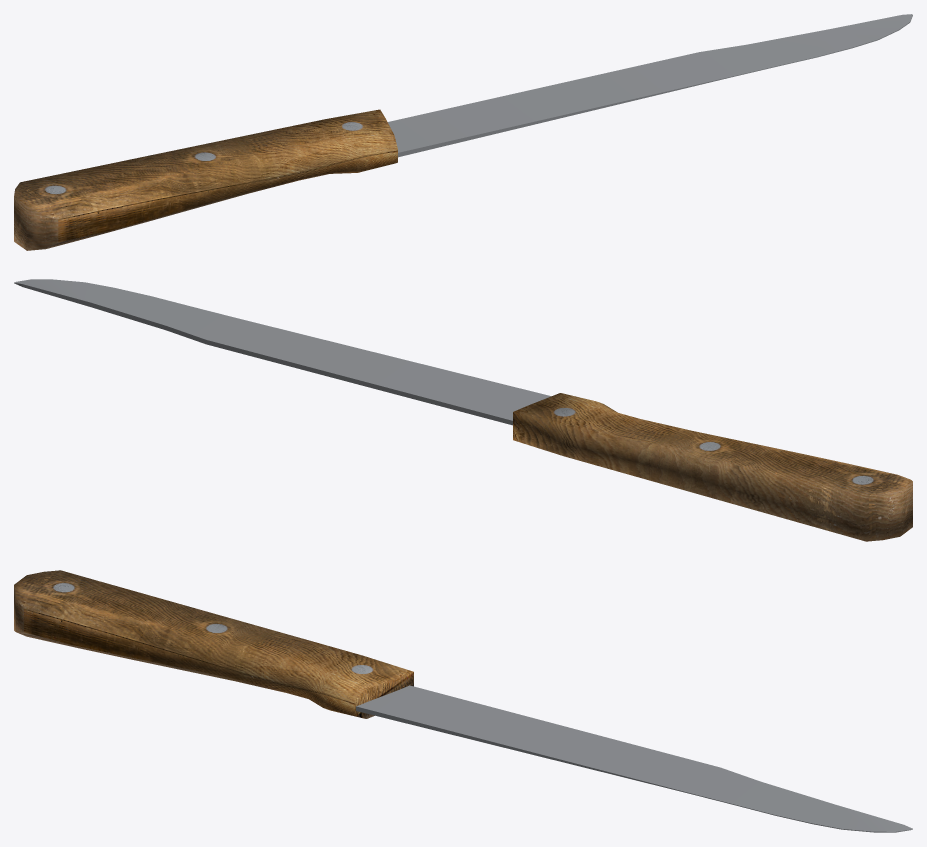
The model's file is Knife02.FBX.
3 renders of one model, top to bottom at view 1: azimuth 30°, elevation 25°; view 2: azimuth 150°, elevation 25°; view 3: azimuth 330°, elevation 25°, orthographic. The views are drawn at different scales.
Visible parts, largest first — view 1: Knife02_LOD0; view 2: Knife02_LOD0; view 3: Knife02_LOD0.
Part boxes in pixels (x1,y1,x2,y2): Knife02_LOD0: [14, 14, 912, 250]; Knife02_LOD0: [14, 279, 912, 541]; Knife02_LOD0: [14, 570, 912, 832].
Size of the model in its own units: 31.62 by 3 by 1.54.
